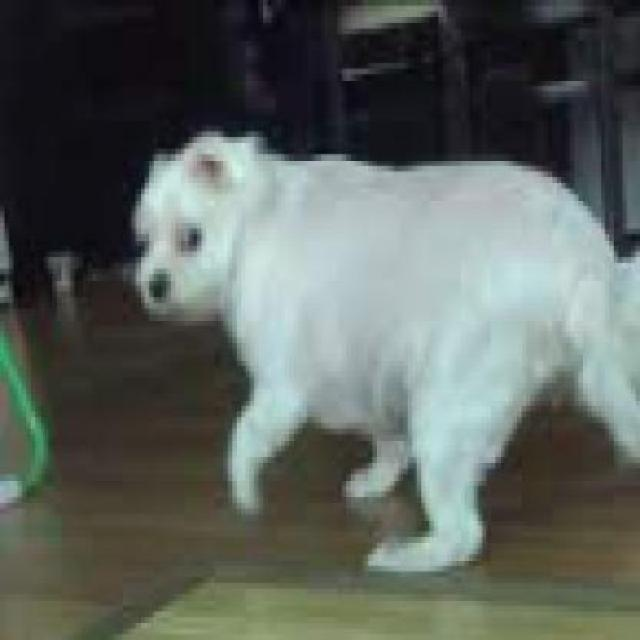Dog: (128, 120, 635, 583)
